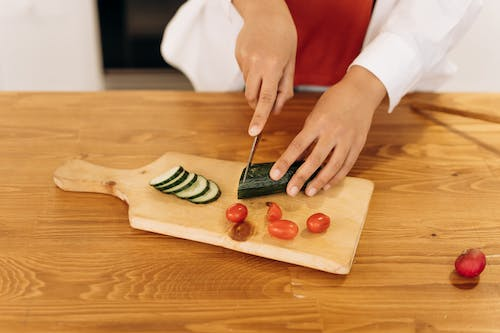knife: (241, 129, 265, 184)
